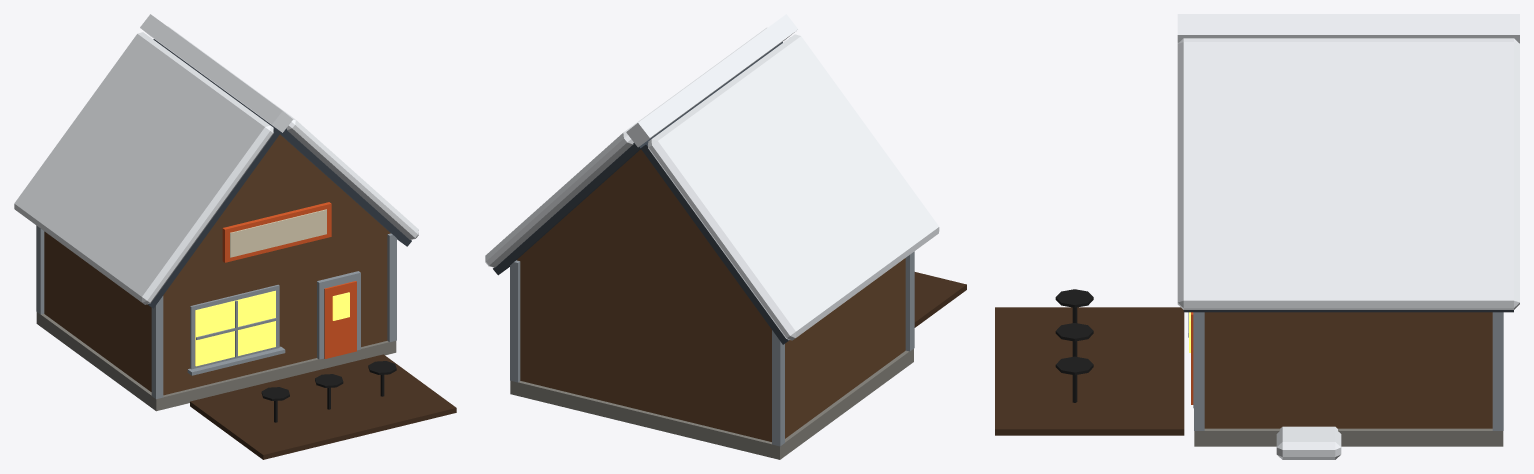
The model's file is cafe-aframe60s.glb.
3 views of the same model, side by side, from view 1: azimuth 30°, elevation 25°; view 2: azimuth 150°, elevation 25°; view 3: azimuth 270°, elevation 25° (orthographic). The views are drawn at different scales.
Visible parts, largest first — view 1: cafe-aframe60s; view 2: cafe-aframe60s; view 3: cafe-aframe60s.
Part boxes in pixels (x1,y1,x2,y2): cafe-aframe60s: (14,14,456,459); cafe-aframe60s: (485,14,966,459); cafe-aframe60s: (995,14,1519,459).
Bounding box in the file's own units: 8.5 × 7.9 × 10.54.
